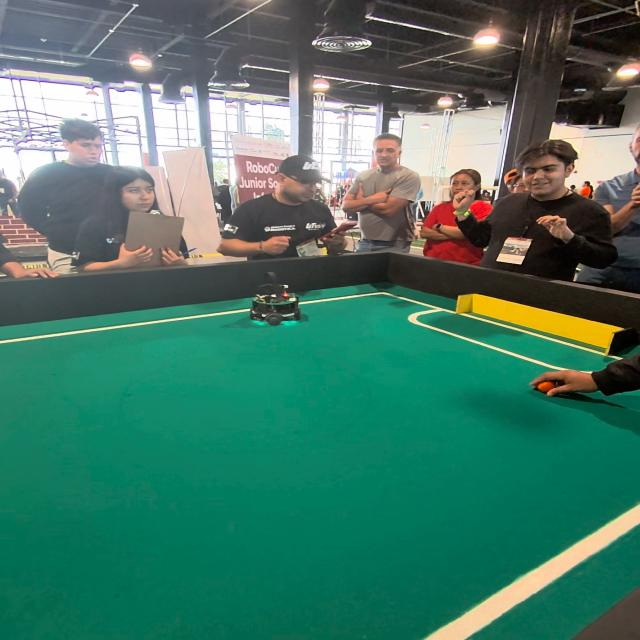Robot: (250, 270, 306, 332)
pelota: (531, 371, 574, 405)
